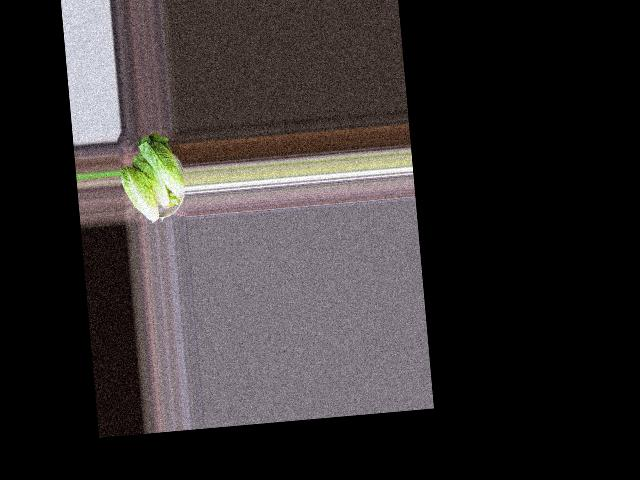lettuce: (136, 132, 186, 207)
